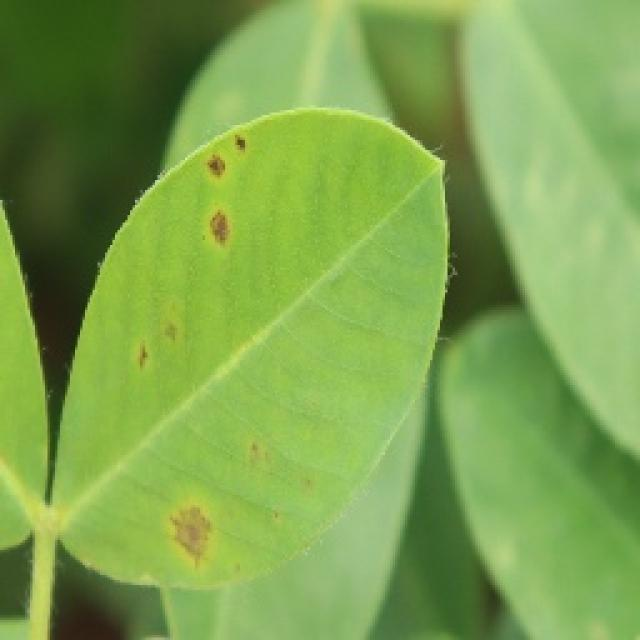Early_leaf_spot: (181, 128, 273, 242), (146, 482, 236, 585), (120, 312, 205, 388), (217, 413, 281, 463)
